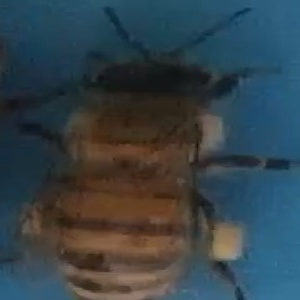bee: (20, 7, 277, 297)
